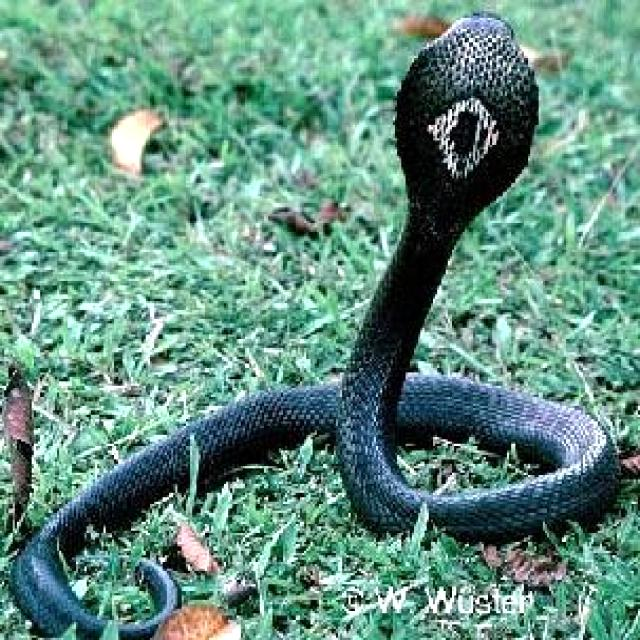Naja kaouthia: (11, 14, 618, 637)
